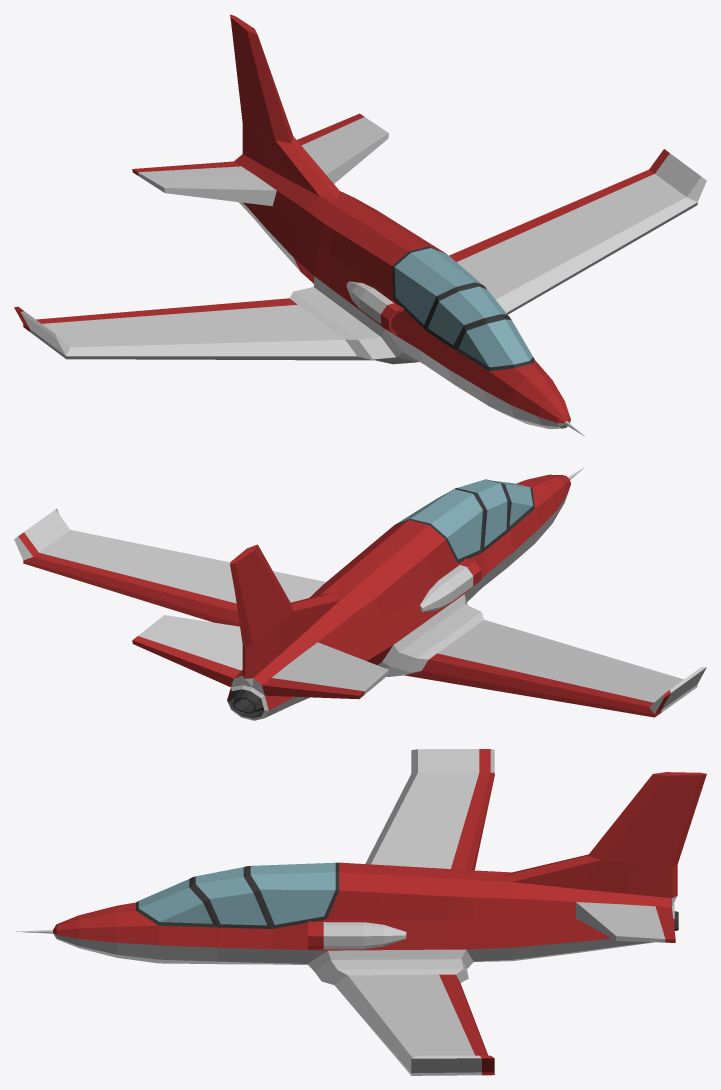
Rendered from jet.gltf.
3 views of the same model, one above another, from view 1: azimuth 30°, elevation 25°; view 2: azimuth 150°, elevation 25°; view 3: azimuth 270°, elevation 25° (orthographic). The views are drawn at different scales.
Visible parts, largest first — view 1: Jet; view 2: Jet; view 3: Jet.
Part boxes in pixels (x1,y1,x2,y2): Jet: (14, 14, 706, 436); Jet: (14, 466, 706, 720); Jet: (16, 749, 706, 1075).
Bounding box in the file's own units: 7.71 × 2.23 × 7.32.
1 material, 1 textured.
